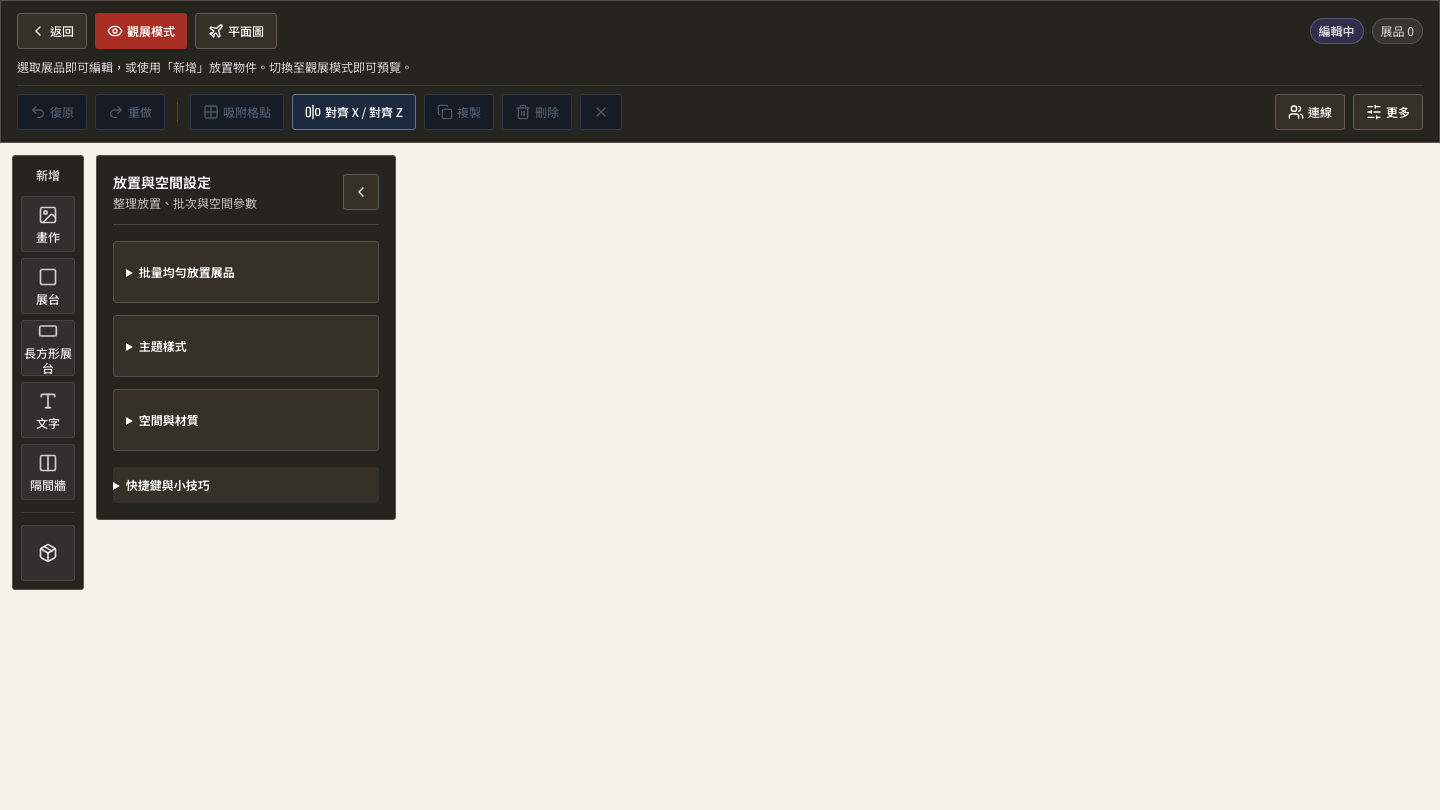
it: EditUI AI builder › restores the last persisted builder session for the signed-in user
Click the button "更多". click: click(1388, 112)
box: [1353,94,1423,130]
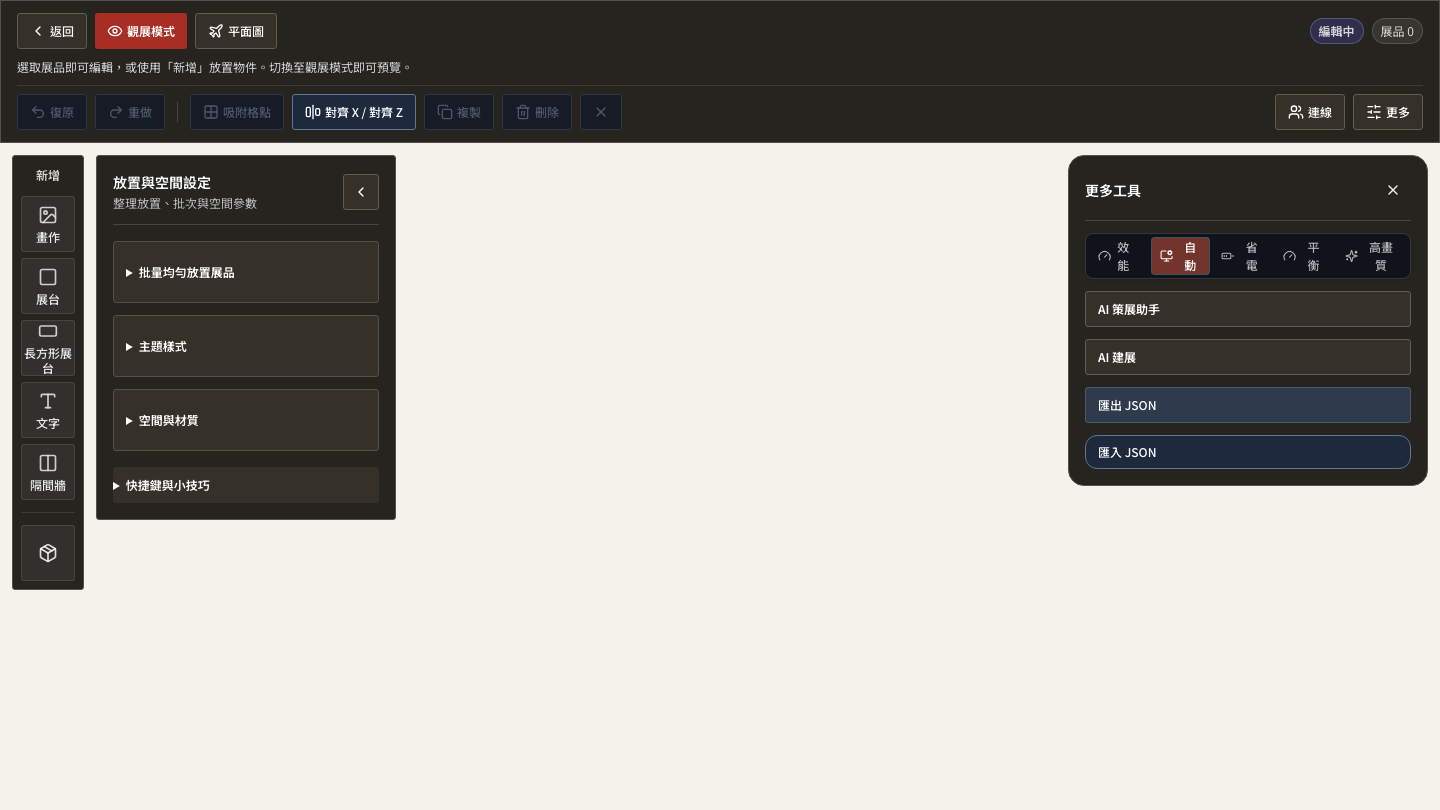
Click the button "AI 建展". click: click(1117, 356)
box: [1085,339,1411,375]
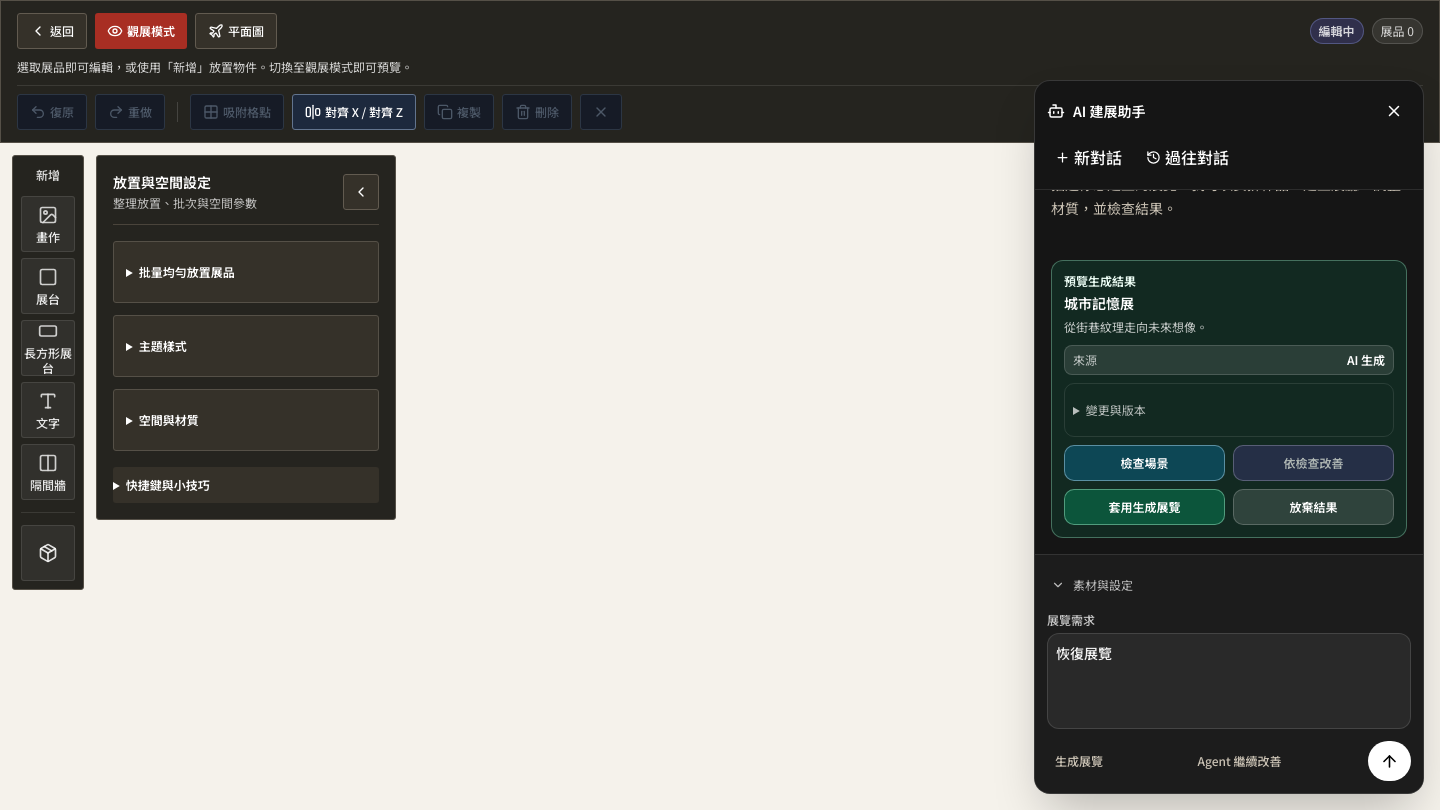
Check: the text "城市記憶展" is shown, box [1064,293,1134,313]
